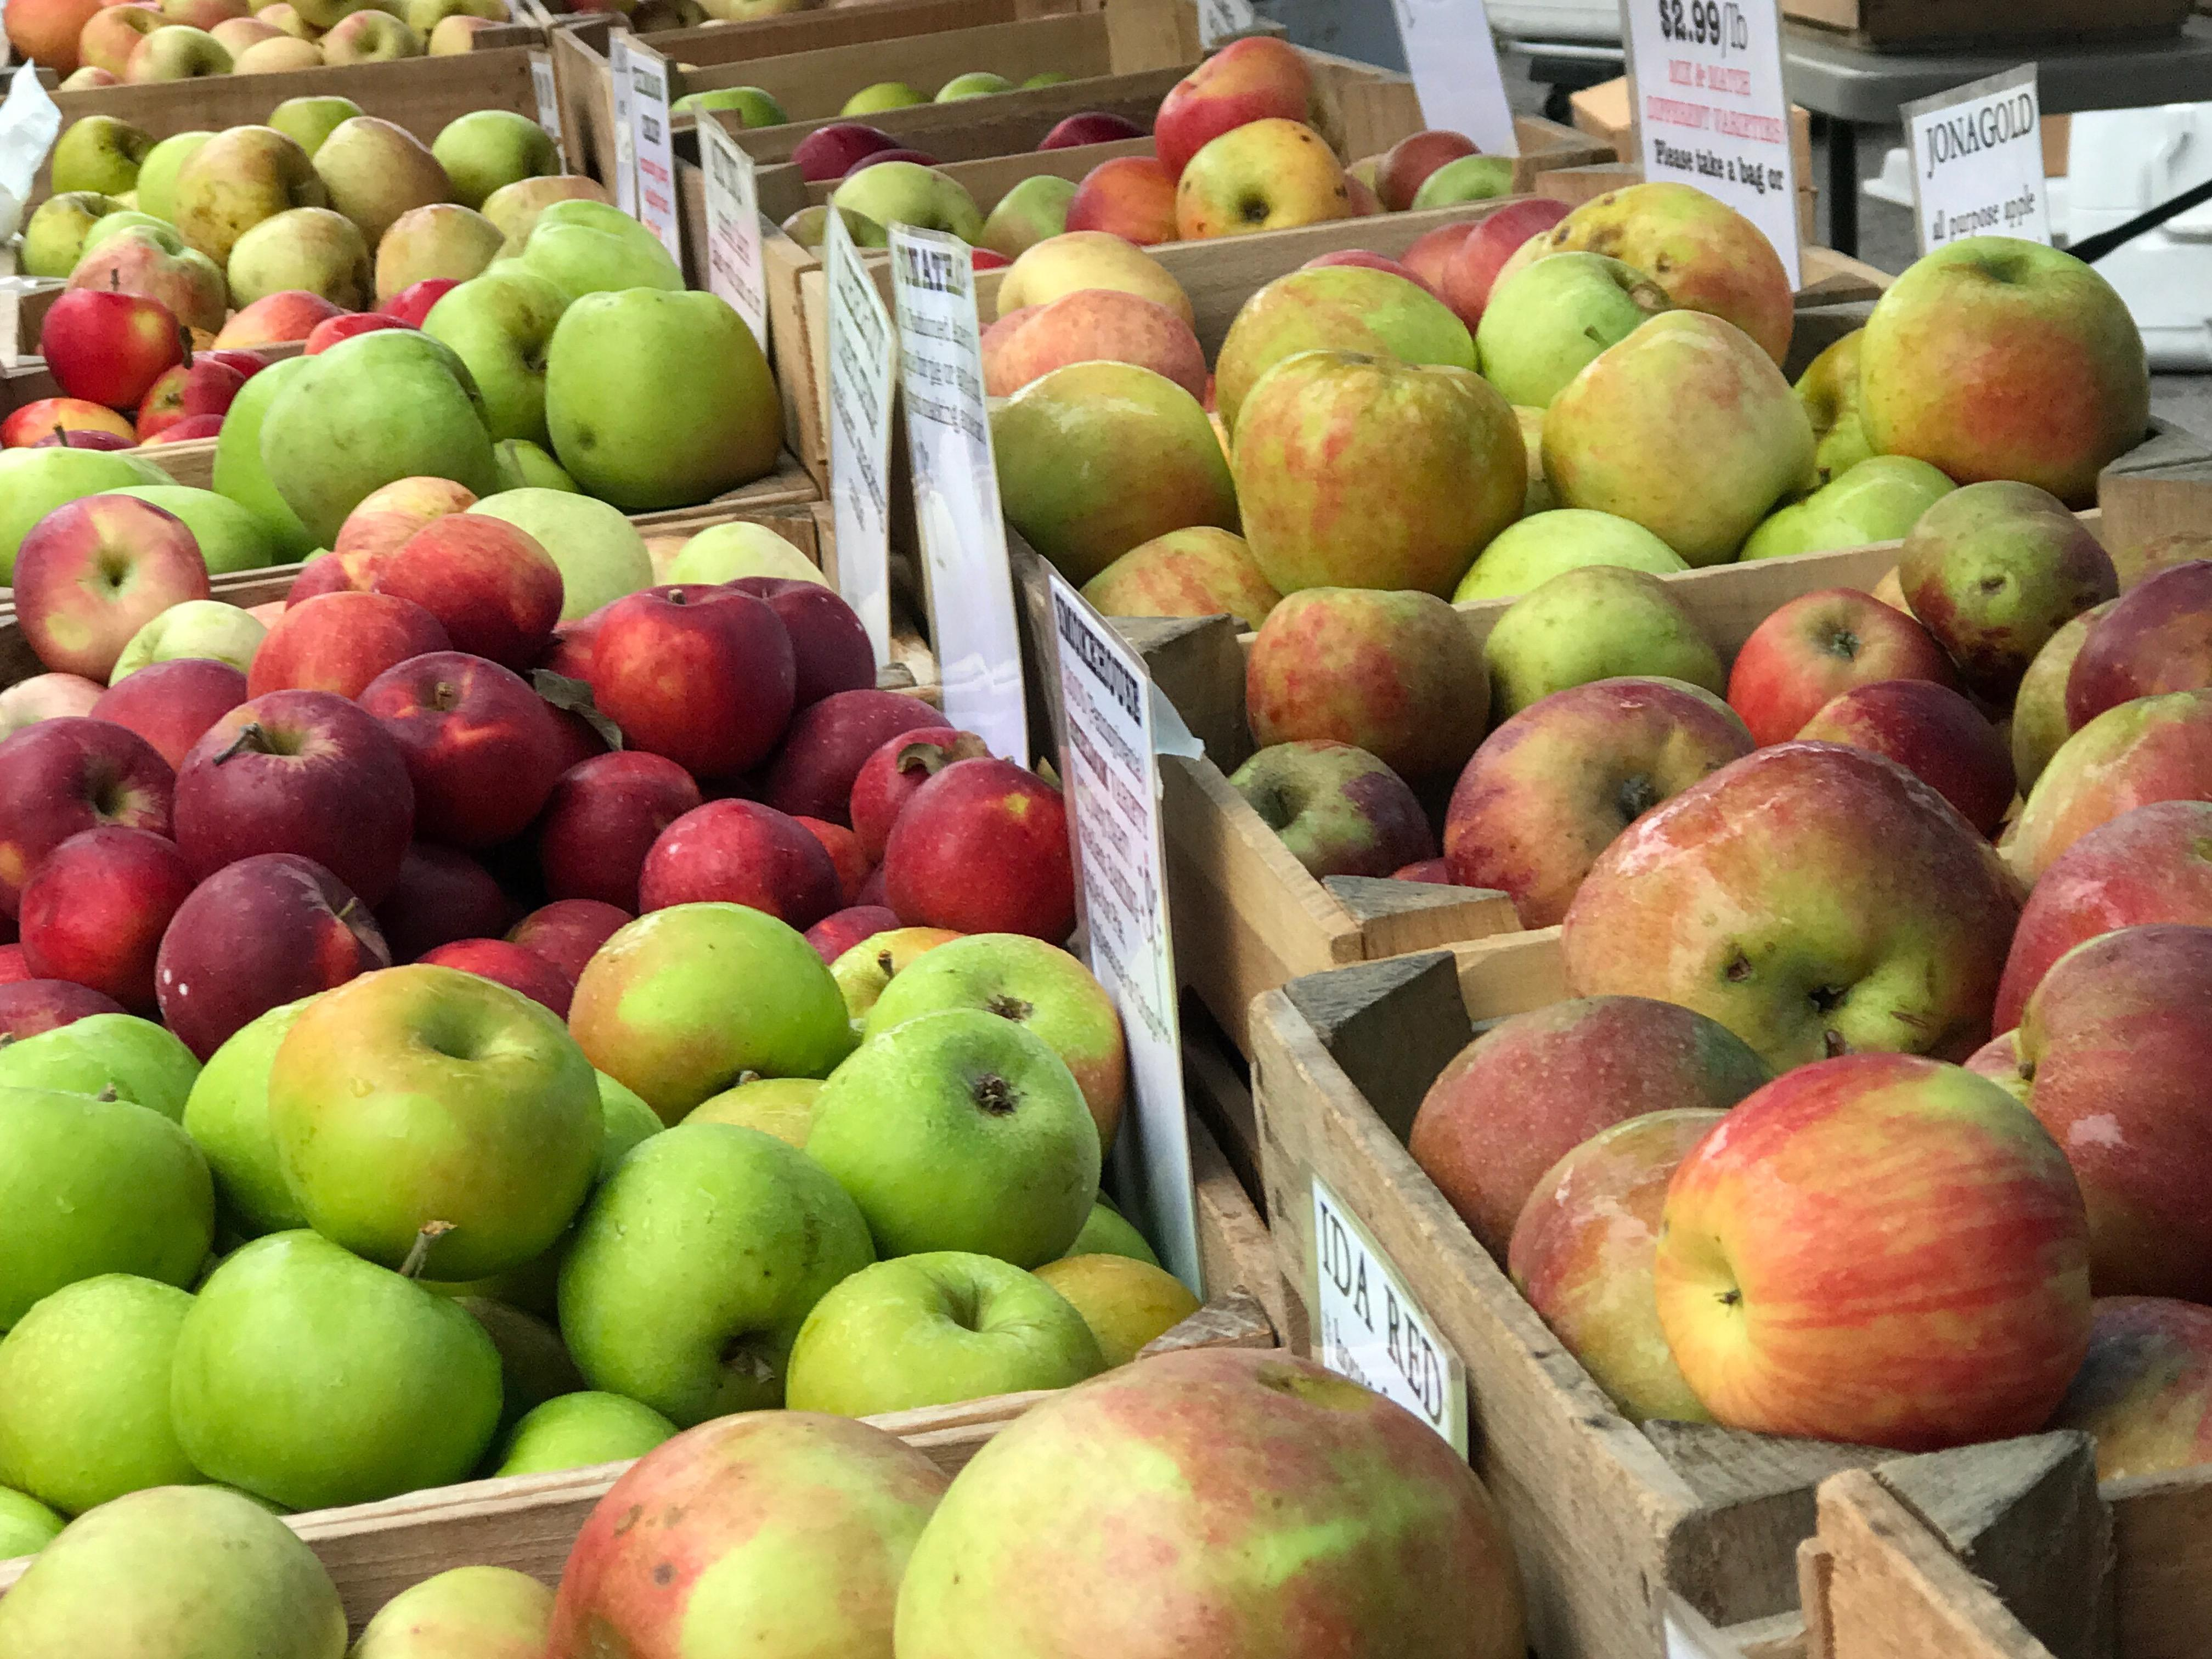apple: (895, 1333, 1534, 1650), (1623, 1047, 2102, 1457), (1559, 746, 2013, 1075), (1404, 986, 1768, 1269), (165, 1232, 516, 1513), (540, 1408, 944, 1650), (561, 1115, 867, 1424), (810, 993, 1104, 1262), (1860, 235, 2153, 502), (1237, 347, 1533, 603), (786, 1241, 1176, 1429), (1543, 308, 1813, 559), (566, 897, 853, 1117), (853, 932, 1123, 1152), (986, 362, 1235, 587), (542, 284, 786, 512), (260, 326, 493, 530), (172, 695, 409, 885), (587, 586, 796, 777), (155, 852, 383, 1025), (10, 491, 211, 681), (364, 650, 561, 842), (880, 763, 1080, 946), (972, 279, 1216, 408), (371, 512, 561, 648), (24, 826, 186, 981), (352, 1565, 559, 1659), (44, 293, 186, 406), (369, 202, 505, 312)
